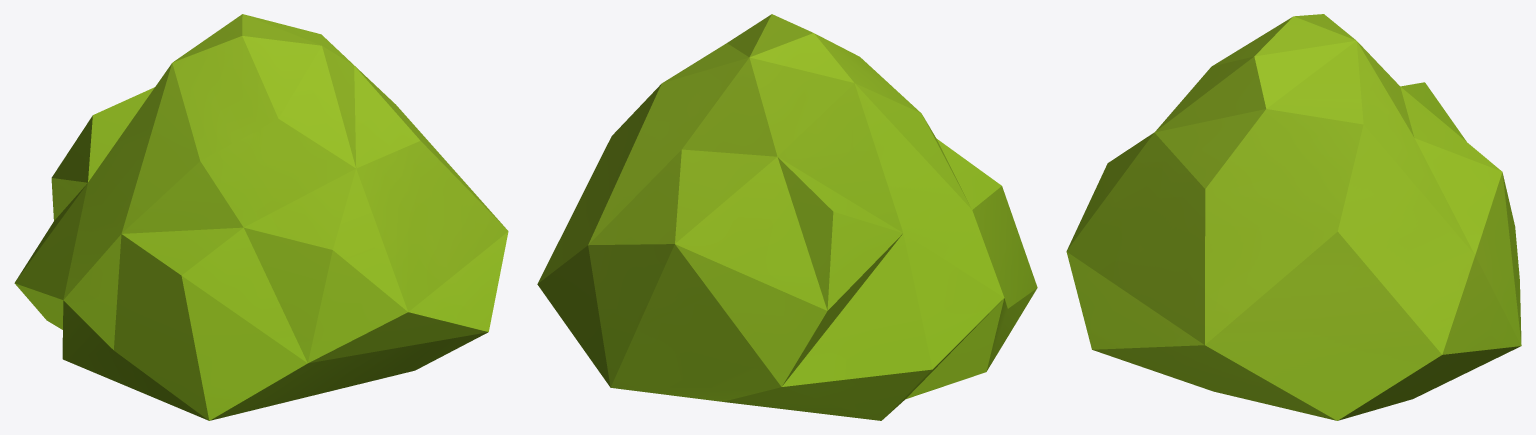
The model's file is lock1.glb.
The picture shows the model from 3 angles, left to right: view 1: azimuth 30°, elevation 25°; view 2: azimuth 150°, elevation 25°; view 3: azimuth 270°, elevation 25°; orthographic projection. The views are drawn at different scales.
Visible parts, largest first — view 1: Icosphere.018; view 2: Icosphere.018; view 3: Icosphere.018.
Part boxes in pixels (bbox=[...]): Icosphere.018: bbox=[14, 14, 508, 420]; Icosphere.018: bbox=[537, 14, 1037, 420]; Icosphere.018: bbox=[1066, 14, 1521, 420].
Size of the model in its own units: 113 by 81.92 by 107.
1 material, 1 textured.
